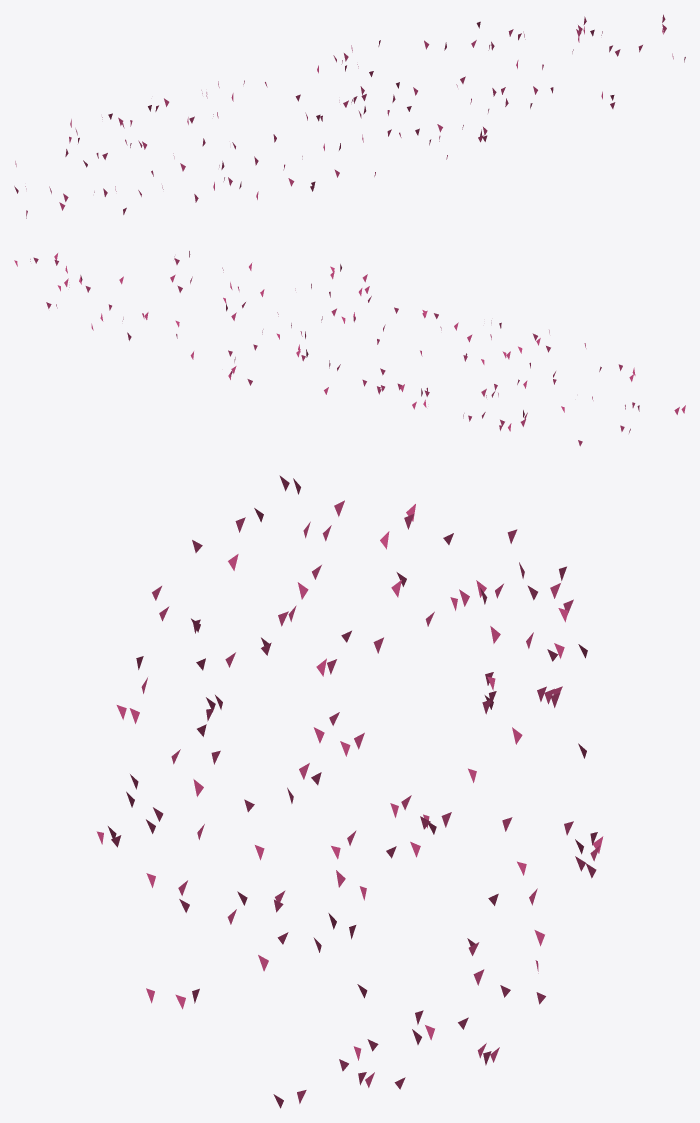
The model's file is xiyuan-vegetation-07-far.glb.
3 views of the same model, one above another, from view 1: azimuth 30°, elevation 25°; view 2: azimuth 150°, elevation 25°; view 3: azimuth 270°, elevation 25° (orthographic). The views are drawn at different scales.
Visible parts, largest first — view 1: pink flowers; view 2: pink flowers; view 3: pink flowers.
Part boxes in pixels (<box>): pink flowers: <box>14,14,685,218</box>; pink flowers: <box>14,251,685,446</box>; pink flowers: <box>96,475,603,1108</box>.
Size of the model in its own units: 6.67 by 0.3011 by 2.29.
